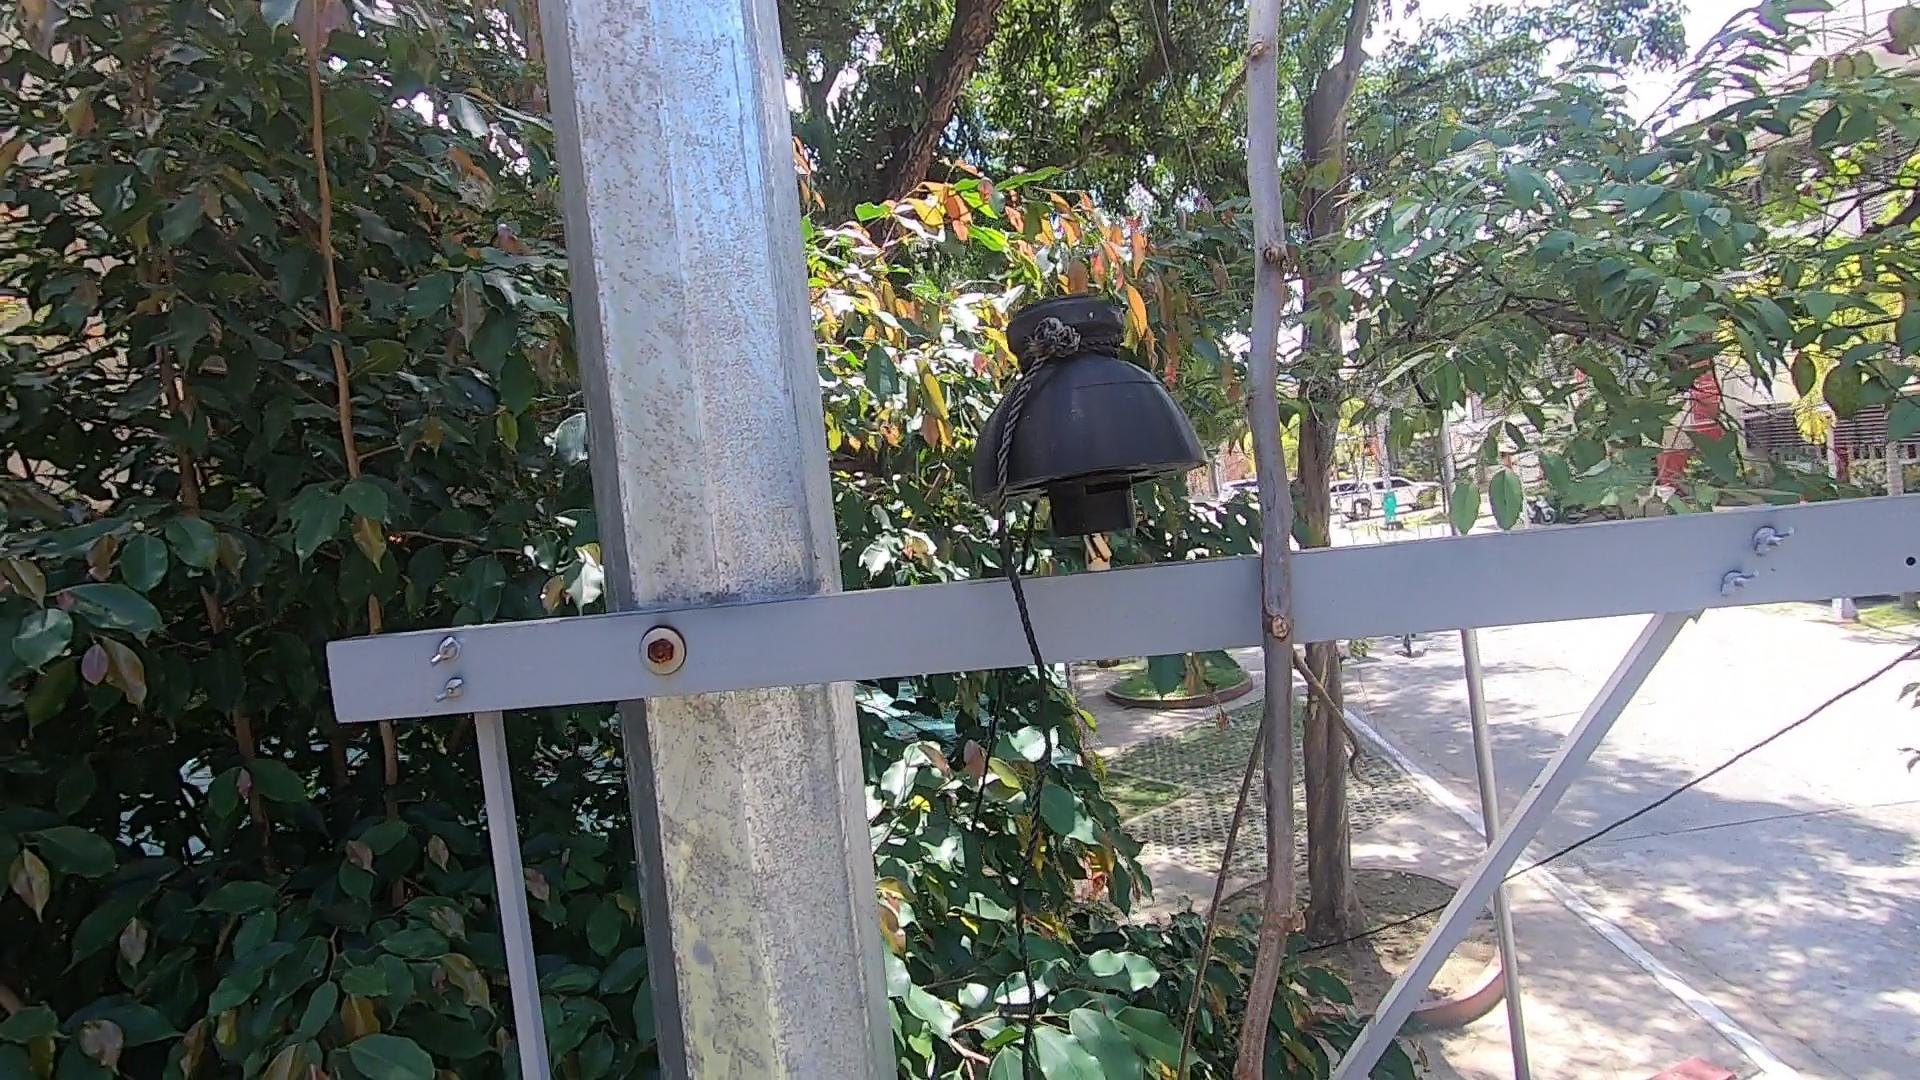tree branch: (1185, 3, 1410, 1080)
